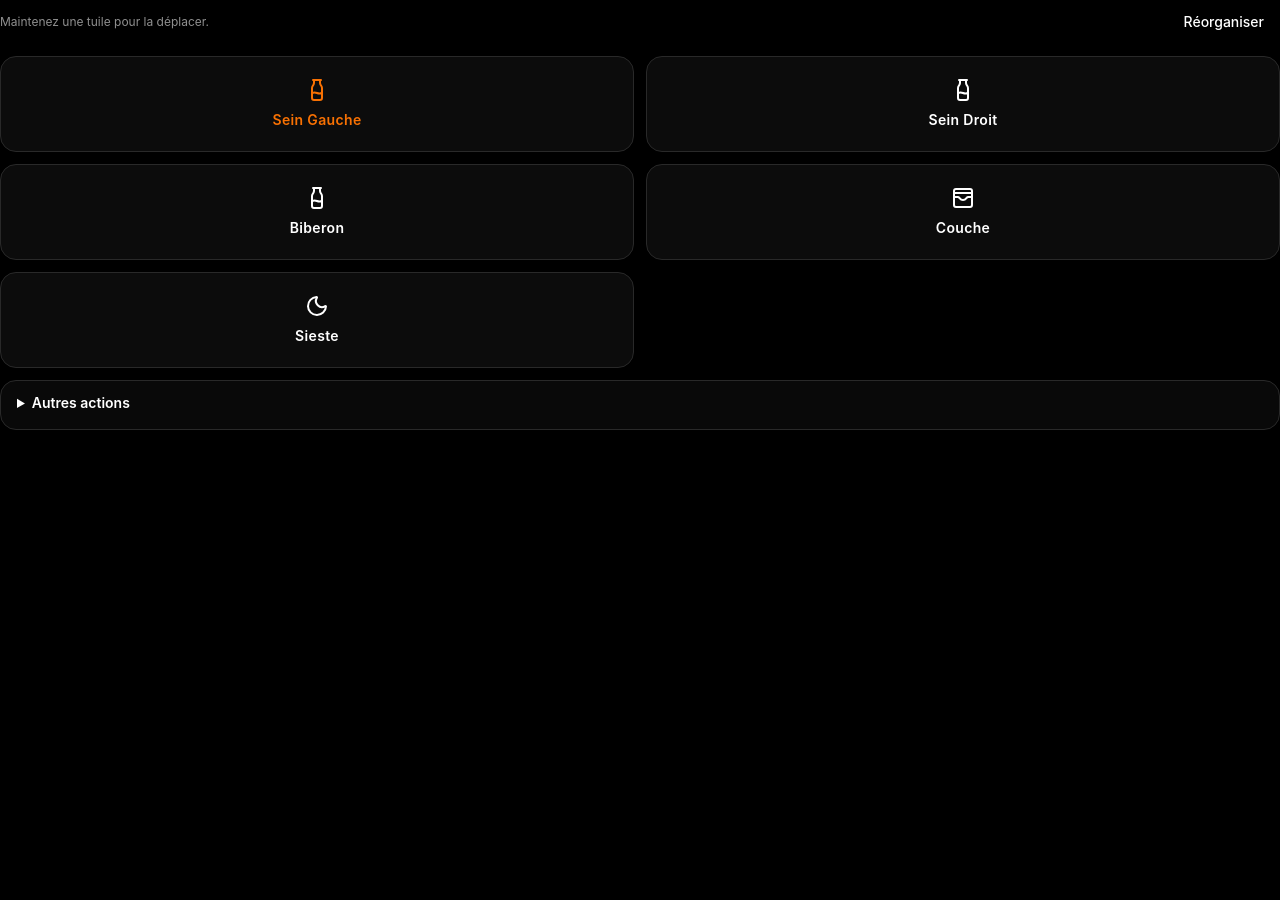
Test case: ActionGrid recovery › ne propose pas de réenregistrer une donnée déjà sauvée si le rafraîchissement échoue
The width and height of the screenshot is (1280, 900).
Click the button "Biberon": [317, 212] box [0,164,634,260]
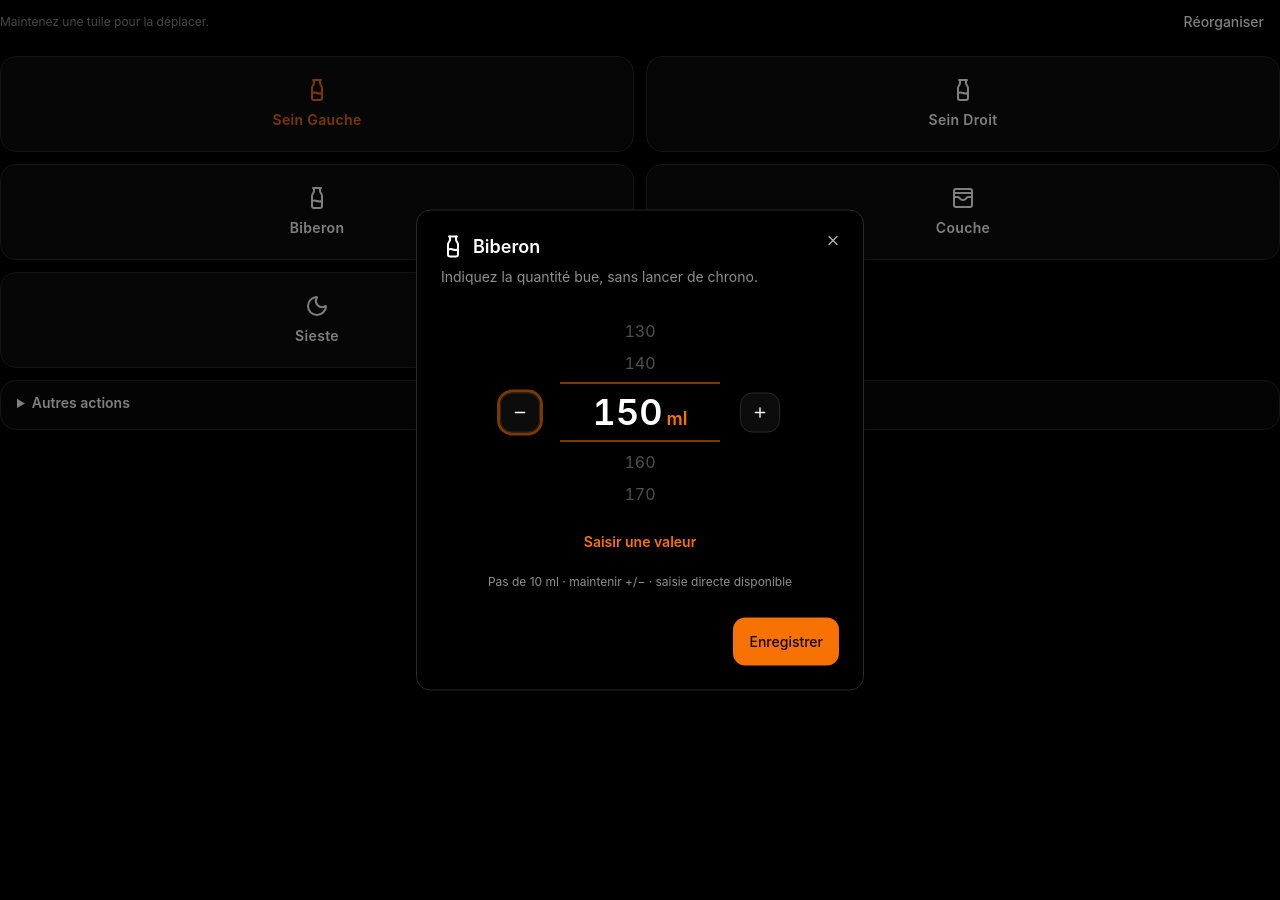
Click the button "Enregistrer": [786, 642] box [734,618,839,666]
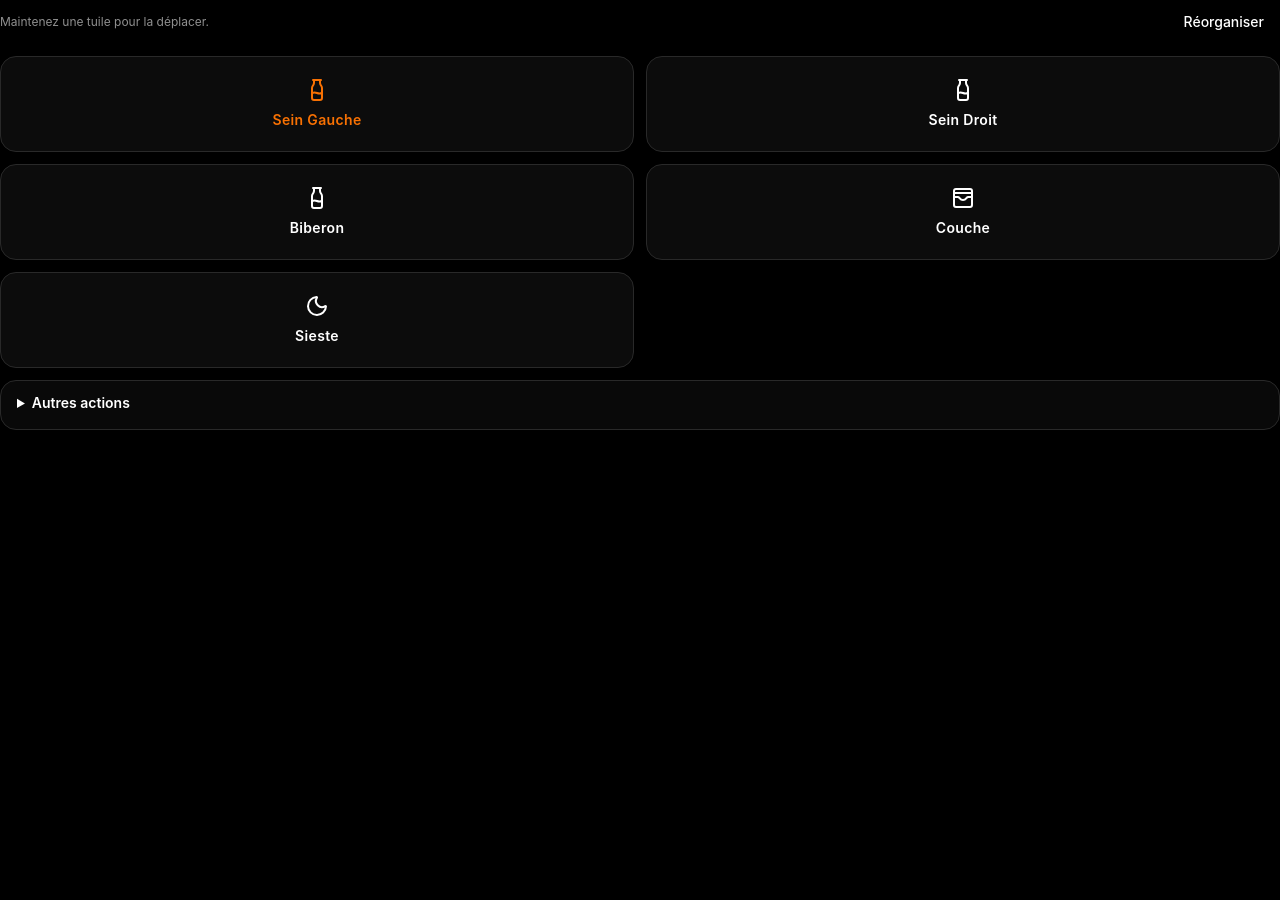
Result: the dialog is gone
